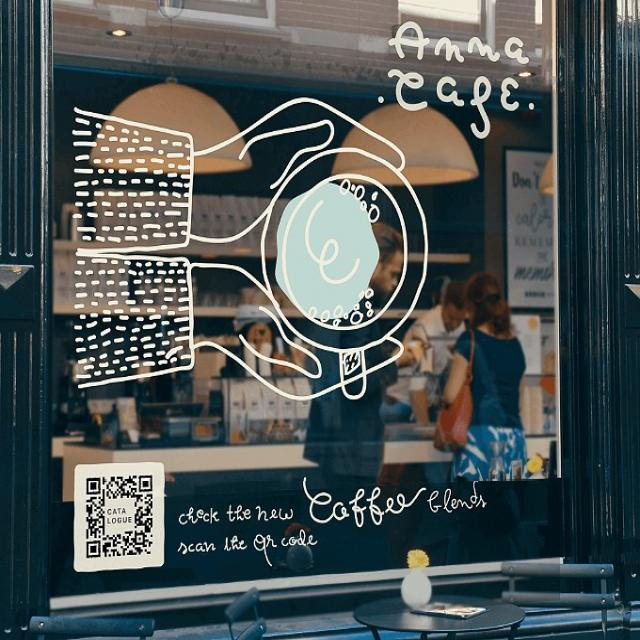qr_code: (85, 475, 154, 559)
